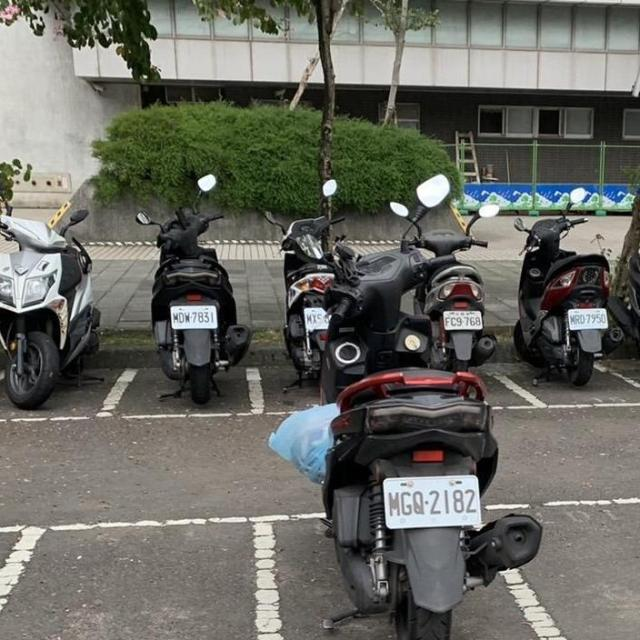W: (375, 472, 489, 533), (165, 302, 222, 333), (436, 304, 488, 334), (562, 304, 614, 334), (294, 302, 336, 334)
